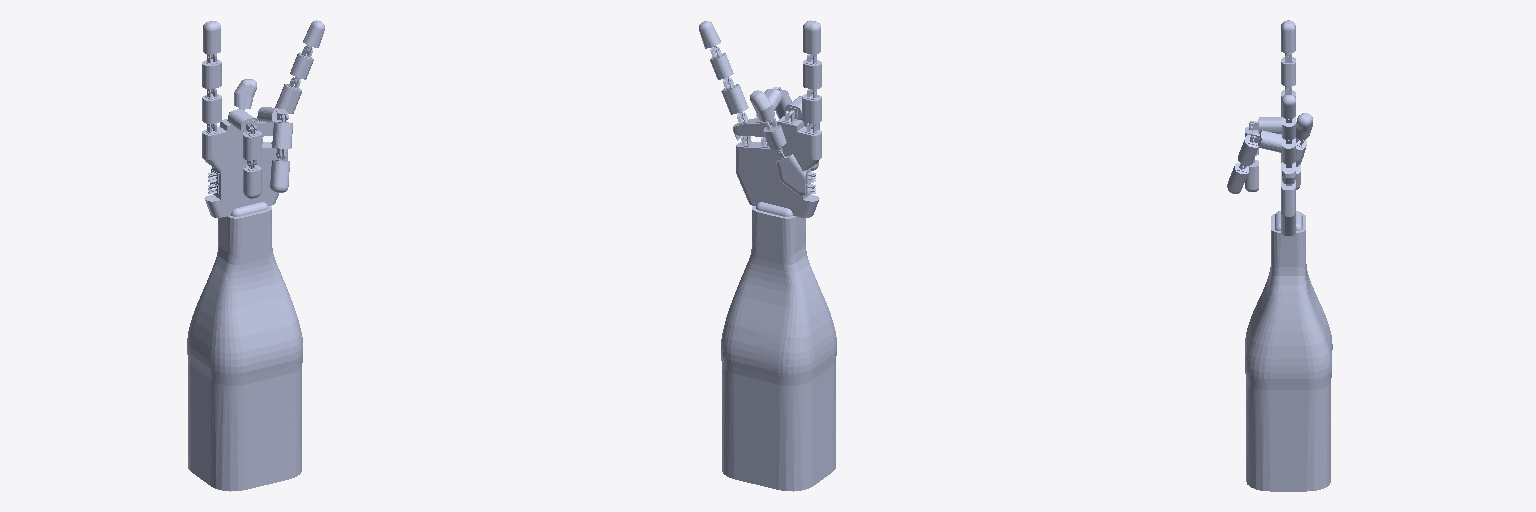
The robot description file, URDF, robot "simple_hand":
<?xml version="1.0" encoding="utf-8"?>
<!-- This URDF was automatically created by SolidWorks to URDF Exporter! Originally created by [author] ([email redacted]) 
     Commit Version: 1.6.0-1-g15f4949  Build Version: 1.6.7594.29634
     For more information, please see http://wiki.ros.org/sw_urdf_exporter -->
<robot
  name="simple_hand">
  <link
    name="base_link">
    <visual>
      <origin
        xyz="0 0 0"
        rpy="0 0 0" />
      <geometry>
        <mesh
          filename="package://simple_hand/meshes/base_link.STL" />
      </geometry>
      <material
        name="">
        <color
          rgba="0.792156862745098 0.819607843137255 0.933333333333333 1" />
      </material>
    </visual>
    <collision>
      <origin
        xyz="0 0 0"
        rpy="0 0 0" />
      <geometry>
        <mesh
          filename="package://simple_hand/meshes/base_link.STL" />
      </geometry>
    </collision>
  </link>
  <link
    name="thumb_1">
    <inertial>
      <origin
        xyz="0.0048085282615066 0.0155683292090754 -9.38862231650911E-05"
        rpy="0 0 0" />
      <mass
        value="0.00714658380829061" />
      <inertia
        ixx="3.26626039983406E-07"
        ixy="9.21851511766135E-08"
        ixz="7.28401970577157E-11"
        iyy="4.93450737768554E-07"
        iyz="1.16674127798342E-10"
        izz="6.67805464749945E-07" />
    </inertial>
    <visual>
      <origin
        xyz="0 0 0"
        rpy="0 0 0" />
      <geometry>
        <mesh
          filename="package://simple_hand/meshes/thumb_1.STL" />
      </geometry>
      <material
        name="">
        <color
          rgba="0.792156862745098 0.819607843137255 0.933333333333333 1" />
      </material>
    </visual>
    <collision>
      <origin
        xyz="0 0 0"
        rpy="0 0 0" />
      <geometry>
        <mesh
          filename="package://simple_hand/meshes/thumb_1.STL" />
      </geometry>
    </collision>
  </link>
  <joint
    name="thumb_palm"
    type="continuous">
    <origin
      xyz="-0.031 -0.0001 0"
      rpy="1.3963 1.5708 0" />
    <parent
      link="base_link" />
    <child
      link="thumb_1" />
    <axis
      xyz="1 0 0" />
  </joint>
  <link
    name="thumb_2">
    <inertial>
      <origin
        xyz="-0.0580525842144156 0.0245170365772038 0.006002121572846"
        rpy="0 0 0" />
      <mass
        value="0.00309410697808252" />
      <inertia
        ixx="9.86716393307871E-08"
        ixy="-6.5838141715037E-09"
        ixz="4.76941858010047E-11"
        iyy="8.17761446626134E-08"
        iyz="1.44734613015409E-11"
        izz="1.17680540570393E-07" />
    </inertial>
    <visual>
      <origin
        xyz="0 0 0"
        rpy="0 0 0" />
      <geometry>
        <mesh
          filename="package://simple_hand/meshes/thumb_2.STL" />
      </geometry>
      <material
        name="">
        <color
          rgba="0.792156862745098 0.819607843137255 0.933333333333333 1" />
      </material>
    </visual>
    <collision>
      <origin
        xyz="0 0 0"
        rpy="0 0 0" />
      <geometry>
        <mesh
          filename="package://simple_hand/meshes/thumb_2.STL" />
      </geometry>
    </collision>
  </link>
  <joint
    name="thumb_12"
    type="continuous">
    <origin
      xyz="0.00074168 -0.025588 -0.0138"
      rpy="-2.8356 0.43178 -1.5075" />
    <parent
      link="thumb_1" />
    <child
      link="thumb_2" />
    <axis
      xyz="1 0 0" />
  </joint>
  <link
    name="thumb_3">
    <inertial>
      <origin
        xyz="-0.0683569874934216 0.0647531465127789 0.00599440013402127"
        rpy="0 0 0" />
      <mass
        value="0.00324861748801508" />
      <inertia
        ixx="1.31829885963988E-07"
        ixy="2.37227938008643E-08"
        ixz="1.16060719333074E-12"
        iyy="8.56030195353301E-08"
        iyz="9.31995554585114E-13"
        izz="1.54481533062546E-07" />
    </inertial>
    <visual>
      <origin
        xyz="0 0 0"
        rpy="0 0 0" />
      <geometry>
        <mesh
          filename="package://simple_hand/meshes/thumb_3.STL" />
      </geometry>
      <material
        name="">
        <color
          rgba="0.792156862745098 0.819607843137255 0.933333333333333 1" />
      </material>
    </visual>
    <collision>
      <origin
        xyz="0 0 0"
        rpy="0 0 0" />
      <geometry>
        <mesh
          filename="package://simple_hand/meshes/thumb_3.STL" />
      </geometry>
    </collision>
  </link>
  <joint
    name="thumb_23"
    type="continuous">
    <origin
      xyz="0.010488 -0.0027249 0.0098784"
      rpy="0.031976 -0.17161 0.12773" />
    <parent
      link="thumb_2" />
    <child
      link="thumb_3" />
    <axis
      xyz="1 0 0" />
  </joint>
  <link
    name="index_1">
    <inertial>
      <origin
        xyz="0.000100909995287481 0.0101314105773068 -0.00308812397054953"
        rpy="0 0 0" />
      <mass
        value="0.00331457639559618" />
      <inertia
        ixx="1.2323138903352E-07"
        ixy="-6.25998515372946E-22"
        ixz="5.10066448911204E-22"
        iyy="8.32166997991831E-08"
        iyz="-2.40399550653692E-20"
        izz="1.40564829901929E-07" />
    </inertial>
    <visual>
      <origin
        xyz="0 0 0"
        rpy="0 0 0" />
      <geometry>
        <mesh
          filename="package://simple_hand/meshes/index_1.STL" />
      </geometry>
      <material
        name="">
        <color
          rgba="0.792156862745098 0.819607843137255 0.933333333333333 1" />
      </material>
    </visual>
    <collision>
      <origin
        xyz="0 0 0"
        rpy="0 0 0" />
      <geometry>
        <mesh
          filename="package://simple_hand/meshes/index_1.STL" />
      </geometry>
    </collision>
  </link>
  <joint
    name="index_palm"
    type="continuous">
    <origin
      xyz="-0.0299 0.0029 0.043"
      rpy="1.5708 0 3.1416" />
    <parent
      link="base_link" />
    <child
      link="index_1" />
    <axis
      xyz="-1 0 0" />
  </joint>
  <link
    name="index_2">
    <inertial>
      <origin
        xyz="8.81239705526511E-05 0.0101314105773068 -0.00291187602944456"
        rpy="0 0 0" />
      <mass
        value="0.00331457639559618" />
      <inertia
        ixx="1.2323138903352E-07"
        ixy="-6.31587710794479E-22"
        ixz="5.08654247771648E-22"
        iyy="8.32166997991831E-08"
        iyz="-2.39865496563743E-20"
        izz="1.40564829901929E-07" />
    </inertial>
    <visual>
      <origin
        xyz="0 0 0"
        rpy="0 0 0" />
      <geometry>
        <mesh
          filename="package://simple_hand/meshes/index_2.STL" />
      </geometry>
      <material
        name="">
        <color
          rgba="0.792156862745098 0.819607843137255 0.933333333333333 1" />
      </material>
    </visual>
    <collision>
      <origin
        xyz="0 0 0"
        rpy="0 0 0" />
      <geometry>
        <mesh
          filename="package://simple_hand/meshes/index_2.STL" />
      </geometry>
    </collision>
  </link>
  <joint
    name="index_12"
    type="continuous">
    <origin
      xyz="0.0002 0.03 0"
      rpy="0 0 0" />
    <parent
      link="index_1" />
    <child
      link="index_2" />
    <axis
      xyz="1 0 0" />
  </joint>
  <link
    name="index_3">
    <inertial>
      <origin
        xyz="-9.48443246826143E-05 0.0116226051015444 -0.00309484432468261"
        rpy="0 0 0" />
      <mass
        value="0.00352502395351663" />
      <inertia
        ixx="1.85717997302154E-07"
        ixy="-3.18200470047261E-23"
        ixz="-5.94013478540175E-24"
        iyy="8.01006878176001E-08"
        iyz="-5.7268420109026E-23"
        izz="1.97300854531169E-07" />
    </inertial>
    <visual>
      <origin
        xyz="0 0 0"
        rpy="0 0 0" />
      <geometry>
        <mesh
          filename="package://simple_hand/meshes/index_3.STL" />
      </geometry>
      <material
        name="">
        <color
          rgba="0.792156862745098 0.819607843137255 0.933333333333333 1" />
      </material>
    </visual>
    <collision>
      <origin
        xyz="0 0 0"
        rpy="0 0 0" />
      <geometry>
        <mesh
          filename="package://simple_hand/meshes/index_3.STL" />
      </geometry>
    </collision>
  </link>
  <joint
    name="index_23"
    type="fixed">
    <origin
      xyz="0 0.03 0"
      rpy="0 0 0" />
    <parent
      link="index_2" />
    <child
      link="index_3" />
    <axis
      xyz="0 0 0" />
  </joint>
  <link
    name="middle_1">
    <inertial>
      <origin
        xyz="-0.0075009099952875 0.0146314105773069 8.8123970549539E-05"
        rpy="0 0 0" />
      <mass
        value="0.00331457639559618" />
      <inertia
        ixx="1.2323138903352E-07"
        ixy="6.27050527505397E-22"
        ixz="5.23464626399803E-22"
        iyy="8.32166997991831E-08"
        iyz="2.39628438573508E-20"
        izz="1.40564829901929E-07" />
    </inertial>
    <visual>
      <origin
        xyz="0 0 0"
        rpy="0 0 0" />
      <geometry>
        <mesh
          filename="package://simple_hand/meshes/middle_1.STL" />
      </geometry>
      <material
        name="">
        <color
          rgba="0.792156862745098 0.819607843137255 0.933333333333333 1" />
      </material>
    </visual>
    <collision>
      <origin
        xyz="0 0 0"
        rpy="0 0 0" />
      <geometry>
        <mesh
          filename="package://simple_hand/meshes/middle_1.STL" />
      </geometry>
    </collision>
  </link>
  <joint
    name="middle_palm"
    type="continuous">
    <origin
      xyz="-0.003 0.0001 0.0435"
      rpy="-3.1416 0 0" />
    <parent
      link="base_link" />
    <child
      link="middle_1" />
    <axis
      xyz="1 0 0" />
  </joint>
  <link
    name="middle_2">
    <inertial>
      <origin
        xyz="0.000100909995287488 0.0101314105773067 -0.00291187602944463"
        rpy="0 0 0" />
      <mass
        value="0.00331457639559618" />
      <inertia
        ixx="1.2323138903352E-07"
        ixy="-6.67723660396906E-22"
        ixz="5.12480192862445E-22"
        iyy="8.32166997991831E-08"
        iyz="-2.35948874118925E-20"
        izz="1.40564829901929E-07" />
    </inertial>
    <visual>
      <origin
        xyz="0 0 0"
        rpy="0 0 0" />
      <geometry>
        <mesh
          filename="package://simple_hand/meshes/middle_2.STL" />
      </geometry>
      <material
        name="">
        <color
          rgba="0.792156862745098 0.819607843137255 0.933333333333333 1" />
      </material>
    </visual>
    <collision>
      <origin
        xyz="0 0 0"
        rpy="0 0 0" />
      <geometry>
        <mesh
          filename="package://simple_hand/meshes/middle_2.STL" />
      </geometry>
    </collision>
  </link>
  <joint
    name="middle_12"
    type="continuous">
    <origin
      xyz="-0.0076 0.033 0.0045"
      rpy="1.5708 0 3.1416" />
    <parent
      link="middle_1" />
    <child
      link="middle_2" />
    <axis
      xyz="1 0 0" />
  </joint>
  <link
    name="middle_3">
    <inertial>
      <origin
        xyz="-9.48443246826126E-05 0.0116226051015443 -0.00290515567531748"
        rpy="0 0 0" />
      <mass
        value="0.00352502395351663" />
      <inertia
        ixx="1.85717997302153E-07"
        ixy="1.03160885509049E-22"
        ixz="-1.87278463224465E-23"
        iyy="8.01006878176002E-08"
        iyz="9.5434799558797E-22"
        izz="1.97300854531168E-07" />
    </inertial>
    <visual>
      <origin
        xyz="0 0 0"
        rpy="0 0 0" />
      <geometry>
        <mesh
          filename="package://simple_hand/meshes/middle_3.STL" />
      </geometry>
      <material
        name="">
        <color
          rgba="0.792156862745098 0.819607843137255 0.933333333333333 1" />
      </material>
    </visual>
    <collision>
      <origin
        xyz="0 0 0"
        rpy="0 0 0" />
      <geometry>
        <mesh
          filename="package://simple_hand/meshes/middle_3.STL" />
      </geometry>
    </collision>
  </link>
  <joint
    name="middle_23"
    type="fixed">
    <origin
      xyz="0.0002 0.03 0"
      rpy="0 0 0" />
    <parent
      link="middle_2" />
    <child
      link="middle_3" />
    <axis
      xyz="0 0 0" />
  </joint>
  <link
    name="ring_pink_palm">
    <inertial>
      <origin
        xyz="0.017020767254047 0.00634175647982279 -8.33728651589595E-05"
        rpy="0 0 0" />
      <mass
        value="0.00474638182867953" />
      <inertia
        ixx="1.24617700851684E-07"
        ixy="8.08014945109771E-08"
        ixz="-3.25122701371497E-12"
        iyy="4.61877650491779E-07"
        iyz="1.81183357332401E-12"
        izz="4.81107731413793E-07" />
    </inertial>
    <visual>
      <origin
        xyz="0 0 0"
        rpy="0 0 0" />
      <geometry>
        <mesh
          filename="package://simple_hand/meshes/ring_pink_palm.STL" />
      </geometry>
      <material
        name="">
        <color
          rgba="0.792156862745098 0.819607843137255 0.933333333333333 1" />
      </material>
    </visual>
    <collision>
      <origin
        xyz="0 0 0"
        rpy="0 0 0" />
      <geometry>
        <mesh
          filename="package://simple_hand/meshes/ring_pink_palm.STL" />
      </geometry>
    </collision>
  </link>
  <joint
    name="rp_palm"
    type="continuous">
    <origin
      xyz="0.0032512 0.0001 0.018439"
      rpy="1.5708 0 0" />
    <parent
      link="base_link" />
    <child
      link="ring_pink_palm" />
    <axis
      xyz="0.98481 -0.17365 0" />
  </joint>
  <link
    name="ring_1">
    <inertial>
      <origin
        xyz="8.73292782338948E-05 -0.0107273450732419 0.0166617140891223"
        rpy="0 0 0" />
      <mass
        value="0.00334473888459067" />
      <inertia
        ixx="1.23940526073647E-07"
        ixy="2.91167575618666E-22"
        ixz="-6.82424005356248E-22"
        iyy="1.35896896376679E-07"
        iyz="1.58204423271736E-08"
        izz="8.93128789399372E-08" />
    </inertial>
    <visual>
      <origin
        xyz="0 0 0"
        rpy="0 0 0" />
      <geometry>
        <mesh
          filename="package://simple_hand/meshes/ring_1.STL" />
      </geometry>
      <material
        name="">
        <color
          rgba="0.792156862745098 0.819607843137255 0.933333333333333 1" />
      </material>
    </visual>
    <collision>
      <origin
        xyz="0 0 0"
        rpy="0 0 0" />
      <geometry>
        <mesh
          filename="package://simple_hand/meshes/ring_1.STL" />
      </geometry>
    </collision>
  </link>
  <joint
    name="ring1_rp_palm"
    type="continuous">
    <origin
      xyz="0.011215 0.012454 -0.003"
      rpy="0 0 2.8798" />
    <parent
      link="ring_pink_palm" />
    <child
      link="ring_1" />
    <axis
      xyz="1 0 0" />
  </joint>
  <link
    name="ring_2">
    <inertial>
      <origin
        xyz="0.000100909995286628 0.0146314105773069 0.000100909995284316"
        rpy="0 0 0" />
      <mass
        value="0.0033145763955962" />
      <inertia
        ixx="1.23231389033519E-07"
        ixy="1.90883438607356E-22"
        ixz="3.31705518361765E-22"
        iyy="8.3216699799183E-08"
        iyz="2.37847513333498E-20"
        izz="1.40564829901928E-07" />
    </inertial>
    <visual>
      <origin
        xyz="0 0 0"
        rpy="0 0 0" />
      <geometry>
        <mesh
          filename="package://simple_hand/meshes/ring_2.STL" />
      </geometry>
      <material
        name="">
        <color
          rgba="0.792156862745098 0.819607843137255 0.933333333333333 1" />
      </material>
    </visual>
    <collision>
      <origin
        xyz="0 0 0"
        rpy="0 0 0" />
      <geometry>
        <mesh
          filename="package://simple_hand/meshes/ring_2.STL" />
      </geometry>
    </collision>
  </link>
  <joint
    name="ring_12"
    type="continuous">
    <origin
      xyz="0 -0.01569 0.031714"
      rpy="2.8477 0 3.1416" />
    <parent
      link="ring_1" />
    <child
      link="ring_2" />
    <axis
      xyz="1 0 0" />
  </joint>
  <link
    name="ring_3">
    <inertial>
      <origin
        xyz="0.000294844324682021 0.0161226051015444 -9.48443246825276E-05"
        rpy="0 0 0" />
      <mass
        value="0.00352502395351663" />
      <inertia
        ixx="1.85717997302156E-07"
        ixy="3.76268989676365E-22"
        ixz="6.63431977446779E-23"
        iyy="8.01006878176E-08"
        iyz="-6.78288102293483E-23"
        izz="1.97300854531171E-07" />
    </inertial>
    <visual>
      <origin
        xyz="0 0 0"
        rpy="0 0 0" />
      <geometry>
        <mesh
          filename="package://simple_hand/meshes/ring_3.STL" />
      </geometry>
      <material
        name="">
        <color
          rgba="0.792156862745098 0.819607843137255 0.933333333333333 1" />
      </material>
    </visual>
    <collision>
      <origin
        xyz="0 0 0"
        rpy="0 0 0" />
      <geometry>
        <mesh
          filename="package://simple_hand/meshes/ring_3.STL" />
      </geometry>
    </collision>
  </link>
  <joint
    name="ring_23"
    type="fixed">
    <origin
      xyz="0 0.03 0.0002"
      rpy="0 0 0" />
    <parent
      link="ring_2" />
    <child
      link="ring_3" />
    <axis
      xyz="0 0 0" />
    <limit
      lower="-1.5708"
      upper="0"
      effort="0"
      velocity="0" />
  </joint>
  <link
    name="pinky_1">
    <inertial>
      <origin
        xyz="0.000100909995287481 0.0101314105773068 -0.00289909000470925"
        rpy="0 0 0" />
      <mass
        value="0.00331457639559618" />
      <inertia
        ixx="1.2323138903352E-07"
        ixy="-6.38583432890937E-22"
        ixz="5.11093812141977E-22"
        iyy="8.32166997991832E-08"
        iyz="-2.40485243929882E-20"
        izz="1.40564829901929E-07" />
    </inertial>
    <visual>
      <origin
        xyz="0 0 0"
        rpy="0 0 0" />
      <geometry>
        <mesh
          filename="package://simple_hand/meshes/pinky_1.STL" />
      </geometry>
      <material
        name="">
        <color
          rgba="0.792156862745098 0.819607843137255 0.933333333333333 1" />
      </material>
    </visual>
    <collision>
      <origin
        xyz="0 0 0"
        rpy="0 0 0" />
      <geometry>
        <mesh
          filename="package://simple_hand/meshes/pinky_1.STL" />
      </geometry>
    </collision>
  </link>
  <joint
    name="pinky1_rp_palm"
    type="continuous">
    <origin
      xyz="0.032286 0.01746 -0.003"
      rpy="-3.1416 0 2.7053" />
    <parent
      link="ring_pink_palm" />
    <child
      link="pinky_1" />
    <axis
      xyz="1 0 0" />
  </joint>
  <link
    name="pinky_2">
    <inertial>
      <origin
        xyz="-0.00011619280297661 0.012929255071657 8.38071970190214E-05"
        rpy="0 0 0" />
      <mass
        value="0.00243095694657694" />
      <inertia
        ixx="6.85523277747311E-08"
        ixy="6.07150569613922E-22"
        ixz="5.03477068605157E-22"
        iyy="5.02538415032838E-08"
        iyz="2.40049701524708E-20"
        izz="7.24913923580194E-08" />
    </inertial>
    <visual>
      <origin
        xyz="0 0 0"
        rpy="0 0 0" />
      <geometry>
        <mesh
          filename="package://simple_hand/meshes/pinky_2.STL" />
      </geometry>
      <material
        name="">
        <color
          rgba="0.792156862745098 0.819607843137255 0.933333333333333 1" />
      </material>
    </visual>
    <collision>
      <origin
        xyz="0 0 0"
        rpy="0 0 0" />
      <geometry>
        <mesh
          filename="package://simple_hand/meshes/pinky_2.STL" />
      </geometry>
    </collision>
  </link>
  <joint
    name="pinky_12"
    type="continuous">
    <origin
      xyz="0 0.0255 -0.0028"
      rpy="-3.1416 0 3.1416" />
    <parent
      link="pinky_1" />
    <child
      link="pinky_2" />
    <axis
      xyz="1 0 0" />
  </joint>
  <link
    name="pinky_3">
    <inertial>
      <origin
        xyz="-0.000108084267456392 0.0130882404924839 9.19326081197102E-05"
        rpy="0 0 0" />
      <mass
        value="0.00224742035804122" />
      <inertia
        ixx="7.846384386027E-08"
        ixy="7.56151725249279E-15"
        ixz="-1.75519852389915E-12"
        iyy="4.07217895790232E-08"
        iyz="6.27007155761334E-14"
        izz="7.77279503022194E-08" />
    </inertial>
    <visual>
      <origin
        xyz="0 0 0"
        rpy="0 0 0" />
      <geometry>
        <mesh
          filename="package://simple_hand/meshes/pinky_3.STL" />
      </geometry>
      <material
        name="">
        <color
          rgba="0.792156862745098 0.819607843137255 0.933333333333333 1" />
      </material>
    </visual>
    <collision>
      <origin
        xyz="0 0 0"
        rpy="0 0 0" />
      <geometry>
        <mesh
          filename="package://simple_hand/meshes/pinky_3.STL" />
      </geometry>
    </collision>
  </link>
  <joint
    name="pinky_23"
    type="fixed">
    <origin
      xyz="0 0.02675 0"
      rpy="0 0 0" />
    <parent
      link="pinky_2" />
    <child
      link="pinky_3" />
    <axis
      xyz="1 0 0" />
    <limit
      lower="-1.5708"
      upper="0"
      effort="0"
      velocity="0" />
  </joint>
</robot>

--- Render facts (derived) ---
The picture shows the robot from 3 angles, left to right: view 1: azimuth 30°, elevation 25°; view 2: azimuth 150°, elevation 25°; view 3: azimuth 270°, elevation 25°; orthographic projection.
Robot: simple_hand — 17 links, 16 joints (12 continuous, 4 fixed); root link base_link; default pose: all joints at 0.
Visible links, largest first — view 1: base_link, index_2, ring_2, index_1, ring_3, middle_3, middle_2, index_3, pinky_1, thumb_3; view 2: base_link, thumb_1, index_1, pinky_1, ring_pink_palm, index_2, index_3, thumb_3; view 3: base_link.
Boxes of the visible links, bbox=[...] form: base_link: bbox=[187, 112, 302, 491]; index_2: bbox=[202, 54, 221, 93]; ring_2: bbox=[272, 114, 292, 158]; index_1: bbox=[202, 89, 221, 128]; ring_3: bbox=[270, 152, 289, 192]; middle_3: bbox=[243, 161, 261, 198]; middle_2: bbox=[243, 125, 261, 166]; index_3: bbox=[203, 21, 220, 58]; pinky_1: bbox=[275, 77, 301, 113]; thumb_3: bbox=[234, 79, 256, 110]; base_link: bbox=[721, 111, 836, 491]; thumb_1: bbox=[776, 150, 815, 195]; index_1: bbox=[802, 89, 821, 128]; pinky_1: bbox=[721, 78, 748, 118]; ring_pink_palm: bbox=[733, 112, 776, 141]; index_2: bbox=[803, 54, 821, 93]; index_3: bbox=[803, 20, 820, 58]; thumb_3: bbox=[750, 90, 774, 124]; base_link: bbox=[1245, 134, 1332, 491].
Size in the robot's own frame: 0.1118 by 0.0863 by 0.393 metres.
17 mesh visuals loaded from 17 distinct referenced files (17 binary STL).